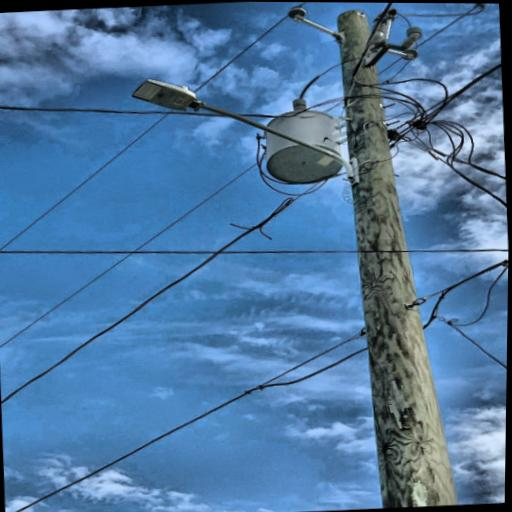pole: (322, 2, 507, 511)
street light: (122, 65, 368, 195)
transformer: (263, 107, 344, 188)
